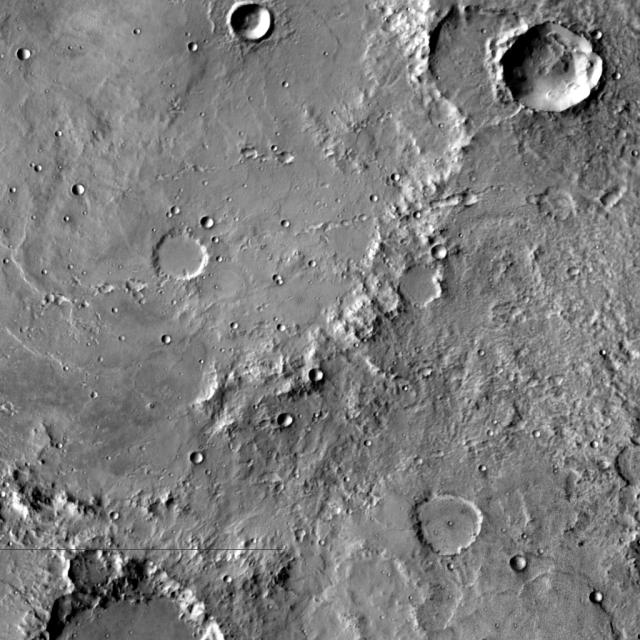crater: (41, 560, 238, 640), (501, 25, 602, 113), (415, 493, 483, 556), (154, 232, 207, 280), (197, 261, 249, 306), (68, 550, 114, 595), (397, 264, 442, 306), (231, 2, 271, 40), (615, 442, 640, 486), (278, 558, 304, 598), (1, 500, 28, 523), (138, 560, 156, 577), (602, 192, 620, 207), (510, 555, 526, 571), (431, 244, 447, 260), (461, 191, 477, 205), (278, 413, 293, 427), (265, 472, 281, 484), (607, 359, 621, 372), (309, 369, 323, 382), (127, 280, 142, 292), (241, 147, 256, 159), (446, 194, 459, 207), (279, 152, 293, 164), (201, 216, 213, 229), (18, 48, 30, 61), (550, 375, 564, 386), (615, 184, 627, 196), (590, 591, 602, 603), (190, 452, 202, 464), (419, 367, 432, 378), (380, 5, 392, 16), (294, 529, 306, 540), (72, 184, 84, 195), (428, 88, 441, 98), (165, 500, 178, 510), (532, 194, 545, 204), (143, 560, 155, 570), (98, 497, 110, 507), (568, 172, 580, 182), (100, 284, 112, 294), (615, 129, 627, 139), (630, 434, 640, 445), (510, 306, 521, 316), (1, 401, 12, 411), (466, 439, 477, 449), (591, 30, 602, 40), (601, 417, 611, 427), (423, 184, 433, 194), (396, 205, 406, 215), (626, 349, 636, 359), (424, 224, 434, 234), (538, 194, 548, 204), (526, 194, 536, 204), (188, 42, 198, 52), (568, 266, 578, 276), (555, 213, 566, 222), (516, 348, 525, 358), (232, 442, 242, 451), (55, 296, 65, 305), (412, 201, 422, 210), (568, 304, 577, 314), (369, 496, 378, 506), (260, 419, 270, 428), (599, 461, 609, 470), (161, 335, 171, 344), (619, 324, 628, 333), (127, 279, 136, 288), (573, 399, 582, 408), (540, 66, 549, 75), (249, 150, 258, 159), (110, 511, 119, 520), (194, 165, 204, 173), (90, 326, 100, 334), (518, 146, 528, 154), (133, 291, 143, 299), (45, 294, 55, 302), (414, 457, 424, 465), (223, 552, 232, 560), (581, 115, 590, 123), (429, 200, 438, 208), (195, 553, 204, 561), (365, 3, 374, 11), (465, 118, 474, 126), (518, 315, 527, 323), (332, 507, 341, 515), (324, 149, 334, 156), (530, 243, 538, 251), (547, 212, 555, 220), (323, 223, 331, 231), (386, 371, 394, 379), (300, 390, 308, 398), (292, 504, 300, 512), (170, 100, 178, 108), (615, 105, 623, 113), (570, 209, 578, 217), (225, 372, 233, 380), (394, 180, 402, 188), (71, 277, 79, 285), (342, 494, 350, 502), (353, 485, 361, 493), (274, 276, 282, 284), (585, 266, 593, 274), (395, 351, 403, 359), (436, 450, 444, 458), (276, 483, 284, 491), (478, 464, 486, 472), (282, 220, 290, 228), (34, 164, 42, 172), (612, 72, 620, 80), (532, 430, 540, 438), (370, 194, 378, 202), (51, 482, 60, 489), (590, 441, 599, 448), (223, 576, 232, 583), (171, 207, 180, 214), (353, 168, 361, 175), (556, 222, 564, 229), (582, 361, 590, 368), (592, 323, 600, 330), (560, 310, 568, 317), (273, 337, 280, 345), (272, 274, 280, 281), (506, 374, 514, 381), (274, 389, 282, 396), (82, 301, 90, 308), (352, 411, 360, 418), (320, 411, 328, 418), (359, 214, 366, 222), (392, 173, 399, 181), (413, 211, 421, 218), (230, 322, 238, 329), (309, 260, 316, 268), (295, 451, 303, 458), (278, 324, 286, 331), (635, 511, 640, 521), (392, 388, 399, 395), (622, 144, 629, 151), (296, 536, 303, 543), (363, 502, 370, 509), (321, 235, 328, 242), (522, 296, 529, 303), (384, 473, 391, 480), (354, 127, 361, 134), (282, 81, 289, 88), (91, 391, 98, 398), (364, 440, 371, 447), (55, 130, 62, 137), (383, 232, 391, 238), (213, 556, 221, 562), (509, 261, 517, 267), (62, 437, 70, 443), (388, 212, 396, 218), (38, 300, 46, 306), (321, 182, 329, 188), (138, 298, 146, 304), (470, 339, 478, 345), (340, 220, 348, 226), (182, 481, 190, 487), (0, 490, 6, 498), (245, 143, 252, 149), (582, 163, 589, 169), (385, 178, 391, 185), (466, 582, 473, 588), (361, 121, 367, 128), (346, 413, 352, 420), (496, 367, 503, 373), (377, 117, 384, 123), (447, 563, 454, 569), (487, 430, 494, 436), (212, 237, 219, 243), (631, 150, 638, 156), (366, 551, 372, 557), (621, 395, 627, 401), (213, 383, 219, 389), (634, 99, 640, 105), (275, 455, 281, 461), (616, 442, 622, 448), (367, 73, 373, 79), (138, 464, 144, 470), (551, 304, 557, 310), (260, 156, 266, 162), (156, 175, 162, 181), (162, 173, 168, 179), (523, 225, 529, 231), (229, 432, 235, 438), (521, 533, 527, 539), (24, 305, 30, 311), (389, 205, 395, 211), (246, 361, 252, 367), (341, 273, 347, 279), (346, 148, 352, 154), (172, 175, 178, 181), (112, 307, 118, 313), (401, 239, 407, 245), (139, 446, 145, 452), (276, 279, 282, 285), (305, 426, 311, 432), (166, 212, 172, 218), (600, 350, 606, 356), (205, 469, 211, 475), (63, 366, 69, 372), (3, 258, 9, 264), (216, 256, 222, 262), (478, 350, 484, 356), (56, 442, 62, 448), (10, 187, 16, 193), (134, 28, 140, 34), (443, 397, 450, 402), (406, 468, 413, 473), (243, 311, 249, 316), (44, 499, 50, 504), (366, 491, 372, 496), (331, 352, 336, 358), (524, 218, 530, 223), (212, 476, 217, 482), (483, 188, 489, 193), (71, 281, 77, 286), (212, 482, 218, 487), (416, 347, 422, 352), (444, 23, 450, 28), (236, 490, 242, 495), (452, 158, 458, 163), (262, 414, 268, 419), (346, 156, 352, 161), (513, 188, 519, 193), (28, 327, 34, 332), (302, 228, 308, 233), (20, 327, 26, 332), (214, 492, 220, 497), (540, 139, 546, 144), (158, 282, 164, 287), (352, 217, 358, 222), (193, 485, 199, 490), (414, 347, 420, 352), (188, 473, 193, 479), (202, 144, 208, 149), (382, 257, 388, 262), (148, 469, 153, 475), (617, 63, 622, 69), (338, 11, 343, 17), (387, 112, 392, 118), (314, 200, 320, 205), (313, 412, 319, 417), (229, 592, 235, 597), (174, 195, 180, 200), (361, 338, 367, 343), (498, 186, 504, 191), (360, 270, 365, 276), (491, 419, 497, 424), (42, 269, 48, 274), (68, 264, 73, 270), (348, 258, 353, 264), (186, 227, 192, 232), (3, 482, 9, 487), (185, 32, 191, 37), (248, 459, 253, 465), (335, 198, 341, 203), (202, 180, 207, 186), (272, 146, 278, 151), (119, 336, 125, 341), (267, 604, 272, 610), (470, 176, 476, 181), (276, 550, 283, 554), (298, 436, 303, 441), (178, 476, 183, 481), (221, 463, 226, 468), (581, 124, 586, 129), (531, 254, 536, 259), (316, 23, 321, 28), (96, 582, 101, 587), (489, 258, 494, 263), (124, 288, 129, 293), (71, 467, 76, 472), (635, 525, 640, 530), (619, 537, 624, 542), (294, 251, 299, 256), (127, 187, 132, 192), (106, 541, 111, 546), (267, 255, 272, 260), (323, 203, 328, 208), (158, 289, 163, 294), (93, 291, 98, 296), (263, 303, 268, 308), (349, 122, 354, 127), (553, 465, 558, 470), (158, 475, 163, 480), (378, 164, 383, 169), (241, 245, 246, 250), (8, 244, 13, 249), (239, 159, 244, 164), (538, 549, 543, 554), (488, 277, 493, 282), (8, 541, 13, 546), (171, 300, 176, 305), (402, 386, 407, 391), (203, 39, 208, 44), (199, 359, 204, 364), (248, 96, 253, 101), (31, 215, 36, 220), (25, 462, 30, 467), (227, 197, 232, 202), (438, 123, 443, 128), (98, 357, 103, 362), (347, 509, 352, 514), (319, 540, 324, 545), (323, 51, 328, 56), (64, 216, 69, 221), (344, 477, 349, 482), (167, 472, 173, 476), (164, 234, 170, 238), (168, 491, 172, 497), (96, 313, 100, 319), (323, 356, 329, 360), (394, 232, 400, 236), (622, 602, 626, 608), (468, 400, 474, 404), (216, 484, 222, 488), (210, 166, 216, 170), (72, 299, 78, 303), (160, 81, 166, 85), (448, 520, 452, 526), (508, 212, 514, 216), (166, 72, 172, 76), (434, 159, 440, 163), (482, 28, 486, 34), (30, 162, 34, 168), (238, 132, 244, 136), (106, 456, 112, 460), (252, 538, 256, 544), (274, 156, 279, 160), (636, 580, 640, 585), (150, 403, 154, 408), (392, 363, 396, 368), (324, 483, 328, 488), (163, 525, 168, 529), (260, 104, 265, 108), (492, 132, 497, 136), (601, 377, 605, 382), (466, 291, 471, 295), (296, 516, 300, 521), (388, 262, 392, 267), (72, 633, 76, 638), (346, 398, 351, 402), (553, 469, 558, 473), (399, 506, 404, 510), (254, 426, 259, 430), (40, 312, 44, 317), (94, 339, 98, 344), (459, 276, 463, 281), (342, 194, 347, 198), (509, 390, 514, 394), (490, 284, 494, 289), (362, 287, 367, 291), (32, 314, 37, 318), (239, 411, 243, 416), (367, 103, 372, 107), (11, 412, 16, 416), (282, 544, 286, 549), (118, 265, 123, 269), (433, 531, 438, 535), (422, 192, 427, 196), (37, 148, 42, 152), (530, 326, 534, 331), (211, 442, 215, 447), (82, 382, 86, 387), (356, 179, 360, 184), (179, 222, 184, 226), (491, 186, 496, 190), (594, 245, 599, 249), (162, 468, 166, 473), (602, 250, 607, 254), (392, 360, 397, 364), (228, 444, 233, 448), (6, 354, 10, 359), (501, 528, 506, 532), (82, 211, 87, 215), (201, 276, 206, 280), (229, 348, 233, 353), (286, 521, 290, 526), (337, 214, 342, 218), (249, 562, 254, 566), (377, 282, 381, 287), (297, 414, 302, 418), (385, 41, 390, 45), (68, 46, 73, 50), (242, 184, 247, 188), (199, 112, 204, 116), (374, 412, 378, 417), (598, 145, 602, 150), (258, 307, 262, 312), (220, 348, 224, 353), (275, 132, 280, 136), (253, 405, 258, 409), (414, 303, 418, 308), (86, 342, 91, 346), (203, 566, 208, 570), (179, 188, 183, 193), (285, 257, 290, 261), (169, 472, 173, 477), (436, 76, 441, 80), (354, 343, 358, 348), (414, 496, 418, 501), (273, 317, 278, 321), (294, 474, 299, 478), (448, 116, 452, 120), (363, 255, 367, 259), (294, 40, 298, 44), (302, 209, 306, 213), (261, 245, 265, 249), (402, 433, 406, 437), (39, 328, 43, 332), (494, 168, 498, 172), (139, 459, 143, 463), (342, 407, 346, 411), (495, 624, 499, 628), (505, 492, 509, 496), (386, 571, 390, 575), (105, 634, 109, 638), (336, 297, 340, 301), (341, 515, 345, 519), (68, 249, 72, 253), (314, 532, 318, 536), (227, 365, 231, 369), (372, 176, 376, 180), (30, 71, 34, 75), (596, 434, 600, 438), (469, 218, 473, 222), (95, 376, 99, 380), (82, 470, 86, 474), (89, 284, 93, 288), (176, 455, 180, 459), (247, 240, 251, 244), (8, 199, 12, 203), (96, 425, 100, 429), (128, 528, 132, 532), (68, 129, 72, 133), (414, 90, 418, 94), (383, 17, 387, 21), (252, 594, 256, 598), (128, 630, 132, 634), (340, 141, 344, 145), (406, 7, 410, 11), (567, 331, 571, 335), (448, 595, 452, 599), (308, 280, 312, 284), (265, 186, 269, 190), (199, 446, 203, 450), (330, 316, 334, 320), (531, 184, 535, 188), (214, 285, 218, 289), (28, 334, 32, 338), (264, 209, 268, 213), (627, 121, 631, 125), (406, 618, 410, 622), (578, 412, 582, 416), (293, 407, 297, 411), (387, 572, 391, 576), (212, 346, 216, 350), (209, 273, 213, 277), (269, 571, 273, 575), (381, 570, 385, 574), (14, 591, 18, 595), (165, 138, 169, 142), (302, 630, 306, 634), (168, 416, 172, 420), (452, 218, 456, 222), (215, 522, 219, 526), (274, 117, 278, 121), (268, 450, 272, 454), (580, 109, 584, 113), (17, 27, 21, 31), (330, 523, 334, 527), (458, 233, 462, 237), (259, 167, 263, 171), (62, 449, 66, 453), (224, 214, 228, 218), (82, 271, 86, 275), (58, 166, 62, 170), (92, 130, 96, 134), (254, 385, 258, 389), (152, 228, 156, 232), (524, 162, 528, 166), (375, 225, 379, 229), (19, 66, 23, 70), (172, 530, 176, 534), (408, 596, 412, 600), (380, 615, 384, 619), (0, 54, 4, 58), (295, 186, 299, 190), (170, 84, 174, 88), (332, 111, 336, 115), (234, 217, 238, 221), (108, 271, 111, 275), (637, 634, 640, 638), (79, 46, 83, 49), (178, 396, 182, 399), (479, 150, 484, 152), (180, 298, 184, 300)
